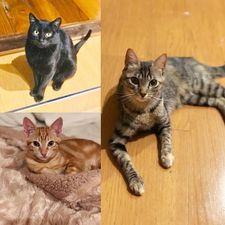cat: (110, 40, 225, 199), (13, 11, 95, 106), (14, 112, 100, 181)
